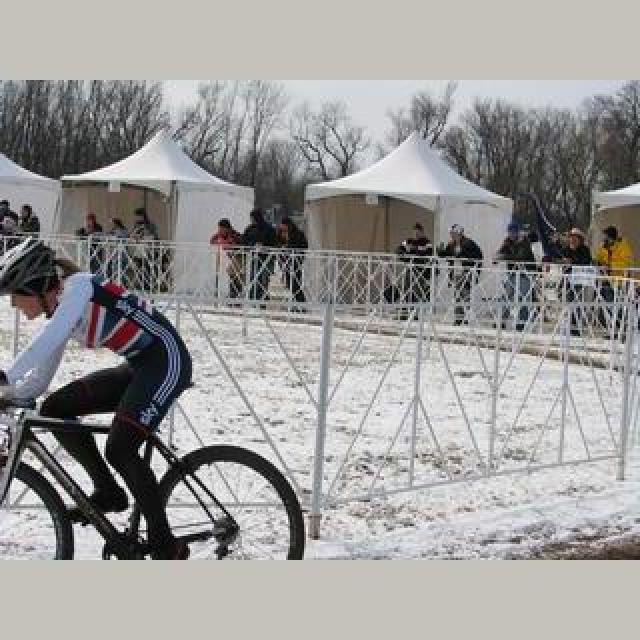MC-Bike: (0, 238, 198, 556), (494, 220, 538, 320), (560, 228, 600, 336), (440, 222, 484, 318), (598, 226, 632, 336), (242, 208, 276, 300), (128, 206, 162, 294), (210, 220, 242, 300), (278, 218, 308, 302), (440, 222, 482, 262), (18, 204, 40, 234)
Person: (0, 378, 302, 560)
